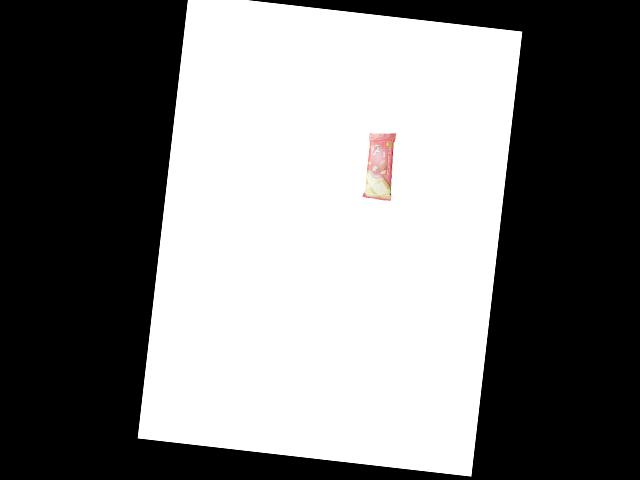chocolate: (360, 125, 403, 201)
